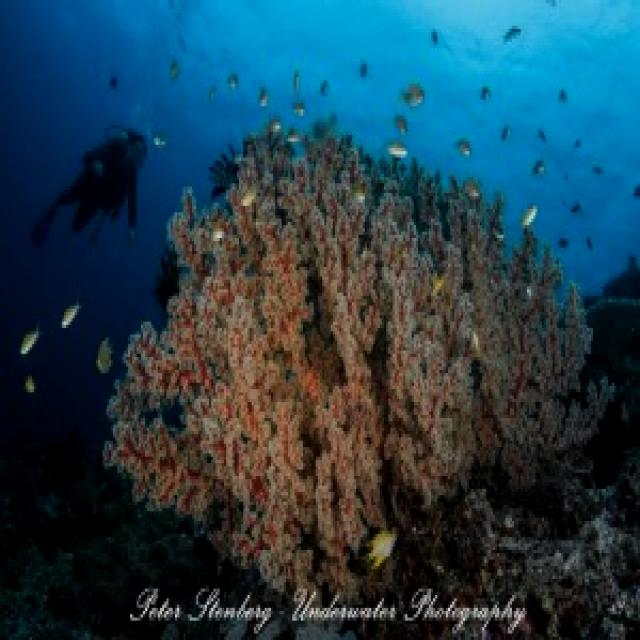Coral: (102, 130, 616, 604)
